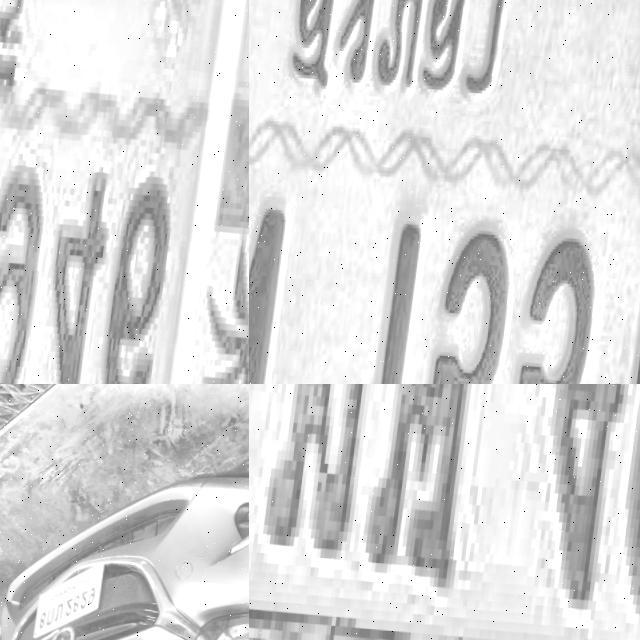license-plate: (249, 0, 640, 384), (249, 384, 640, 640), (0, 0, 249, 384), (35, 550, 109, 639)
